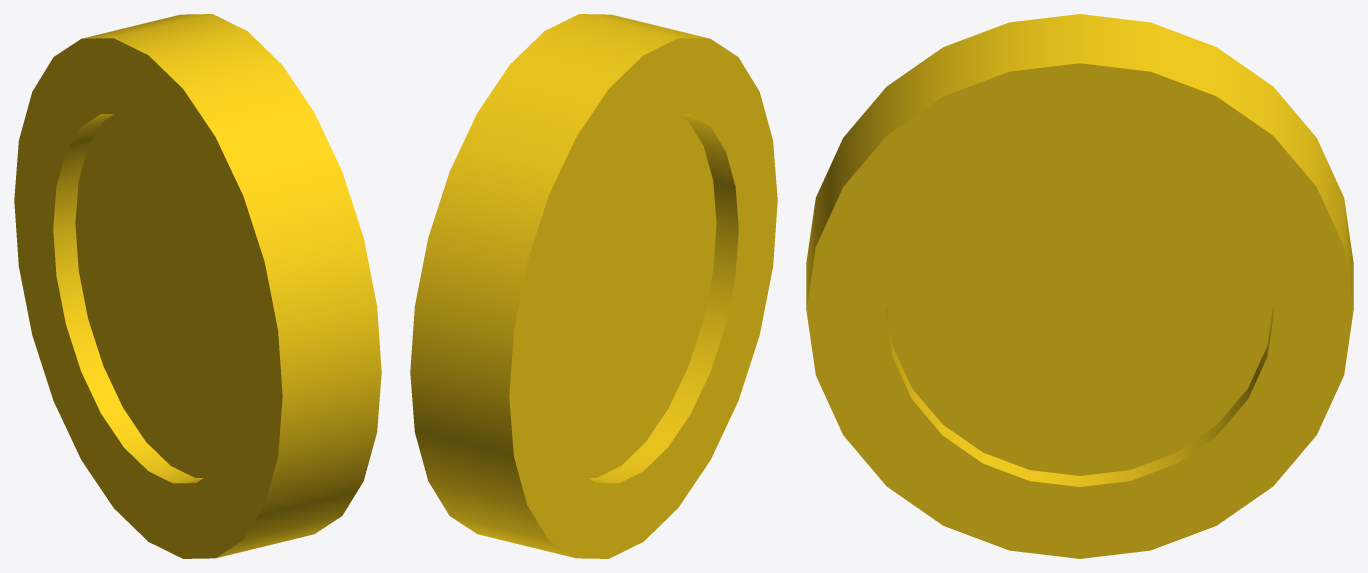
File: COIN.fbx
The picture shows the model from 3 angles, left to right: view 1: azimuth 30°, elevation 25°; view 2: azimuth 150°, elevation 25°; view 3: azimuth 270°, elevation 25°; orthographic projection.
Visible parts, largest first — view 1: Circle.004; view 2: Circle.004; view 3: Circle.004.
Boxes of the visible parts, <box> form: Circle.004: <box>14,14,381,558</box>; Circle.004: <box>410,14,777,558</box>; Circle.004: <box>806,14,1353,558</box>.
Size of the model in its own units: 0.1533 by 0.7196 by 0.7196.
